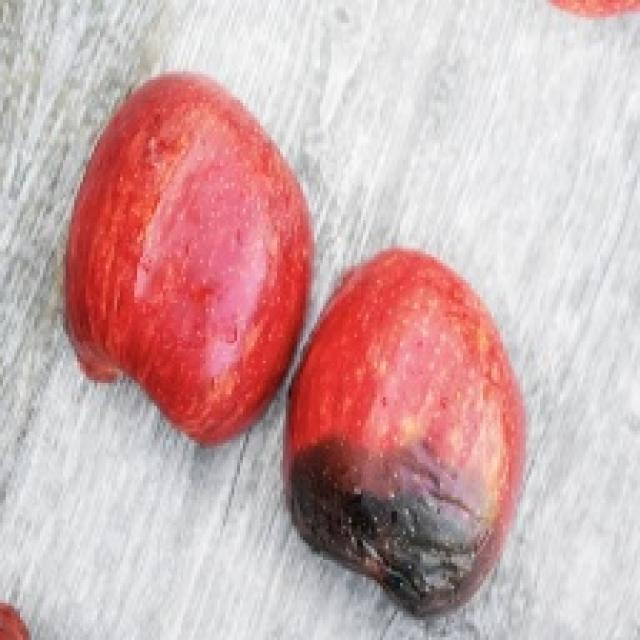apple: (66, 75, 312, 442), (285, 248, 524, 615)
